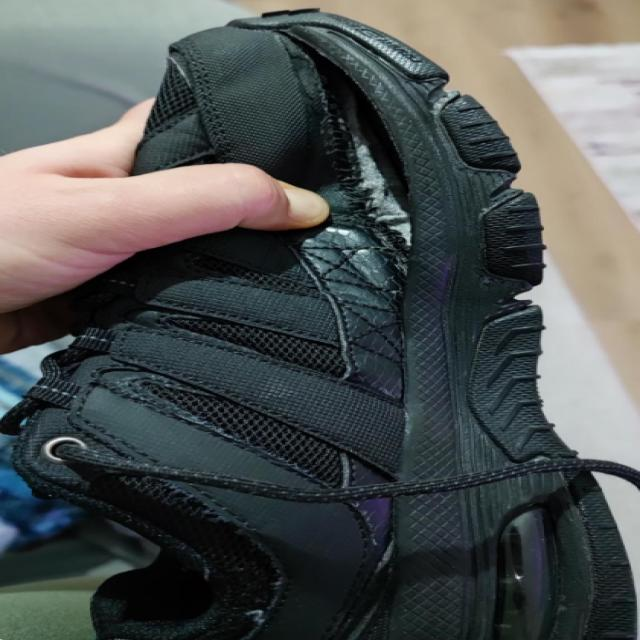bonding: (270, 24, 427, 294)
